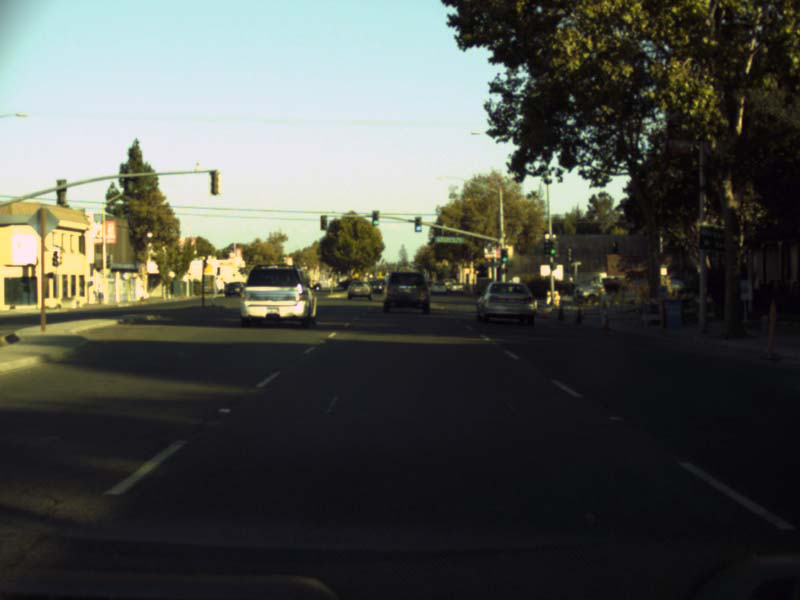Green: (413, 214, 422, 232), (371, 208, 378, 226), (548, 243, 555, 255), (501, 248, 507, 262)
